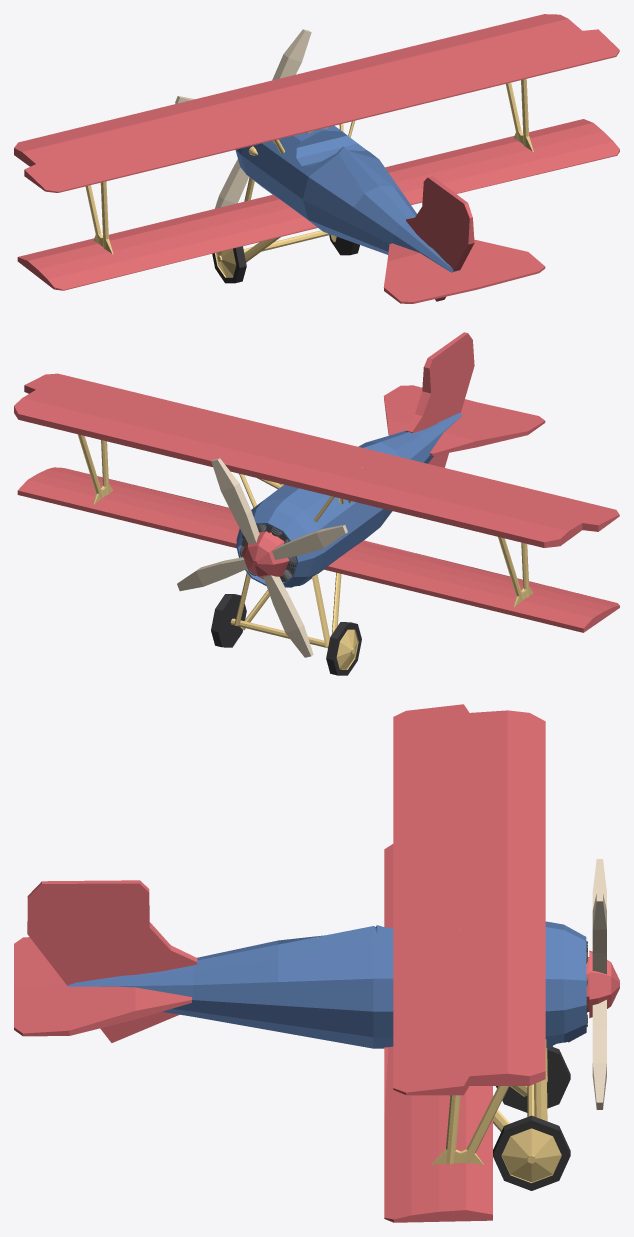
The model's file is Biplane.gltf.
The picture shows the model from 3 angles, top to bottom: view 1: azimuth 30°, elevation 25°; view 2: azimuth 150°, elevation 25°; view 3: azimuth 270°, elevation 25°; orthographic projection. The views are drawn at different scales.
Parts seen in each view (by area): view 1: plane_2, fuselage_1, Cylinder_0; view 2: plane_2, fuselage_1, Cylinder_0; view 3: plane_2, fuselage_1, Cylinder_0.
Boxes of the visible parts, bbox=[...] form: plane_2: bbox=[14, 14, 619, 303]; fuselage_1: bbox=[235, 125, 460, 272]; Cylinder_0: bbox=[175, 29, 311, 208]; plane_2: bbox=[14, 332, 619, 675]; fuselage_1: bbox=[236, 413, 461, 587]; Cylinder_0: bbox=[177, 458, 347, 657]; plane_2: bbox=[14, 704, 570, 1222]; fuselage_1: bbox=[67, 921, 587, 1048]; Cylinder_0: bbox=[586, 859, 619, 1109].
Size of the model in its own units: 8.44 by 2.95 by 5.66.
